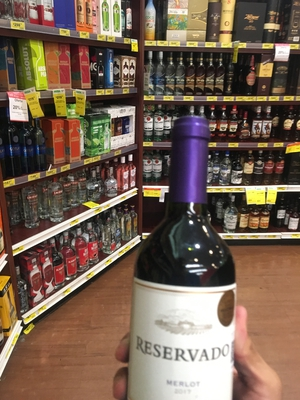reservado merlot: (139, 131, 236, 400)
